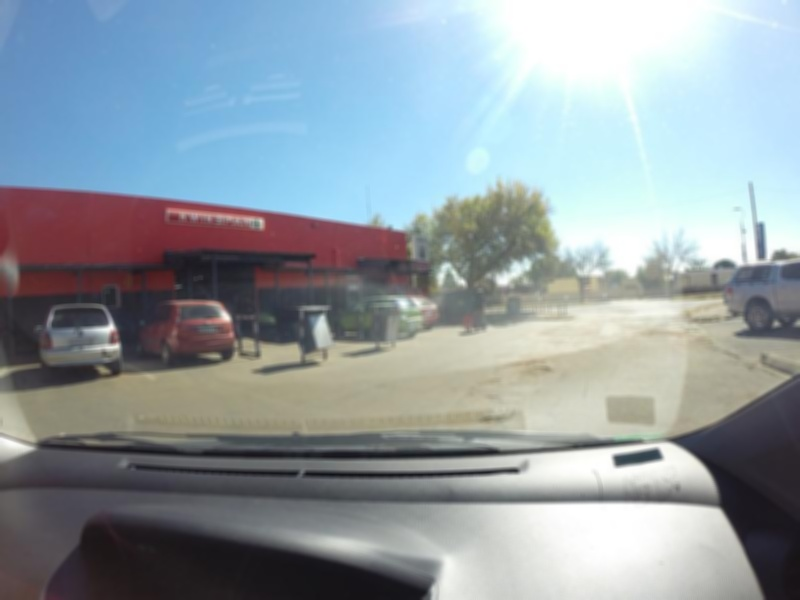pothole: (477, 413, 525, 423), (643, 327, 689, 337), (508, 361, 546, 367), (478, 379, 508, 386), (525, 365, 553, 372), (486, 395, 505, 399)
